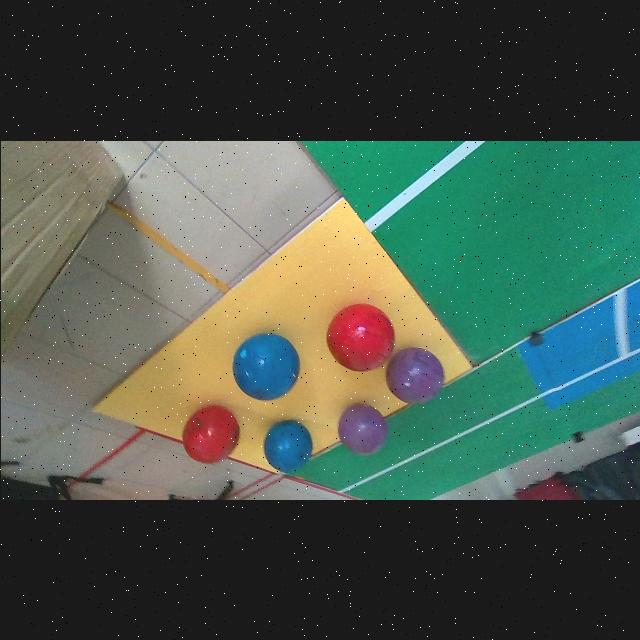B: (231, 333, 298, 400), (263, 420, 311, 472)
P: (385, 349, 442, 404), (338, 404, 386, 455)
R: (326, 303, 394, 371), (182, 406, 239, 463)
